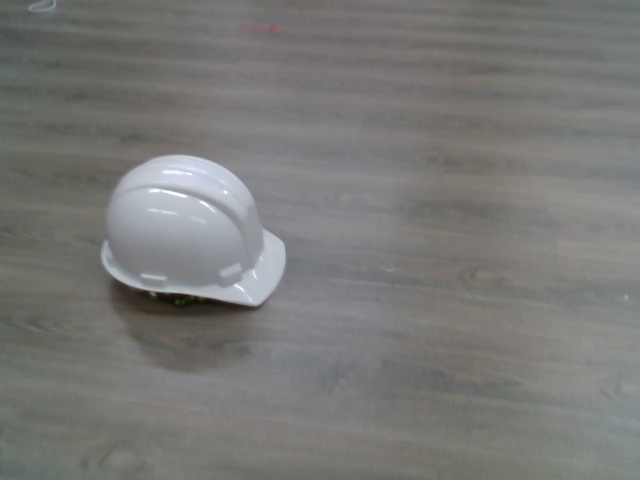helmet: (95, 147, 292, 316)
